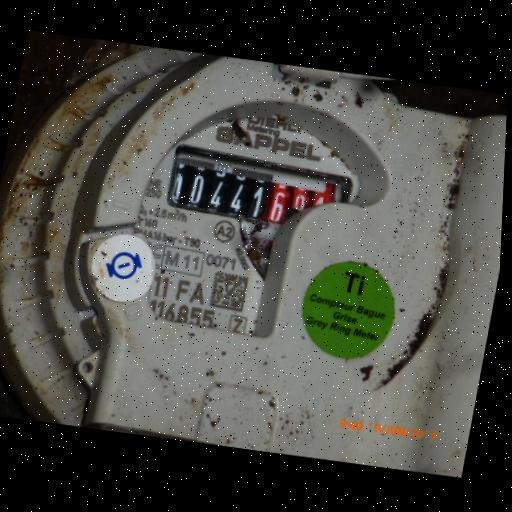0: (186, 164, 214, 208), (169, 164, 194, 206)
1: (247, 179, 271, 219)
4: (225, 174, 258, 217), (205, 169, 235, 213)
6: (262, 182, 294, 224)
border_water_meter_number: (161, 141, 358, 237)
